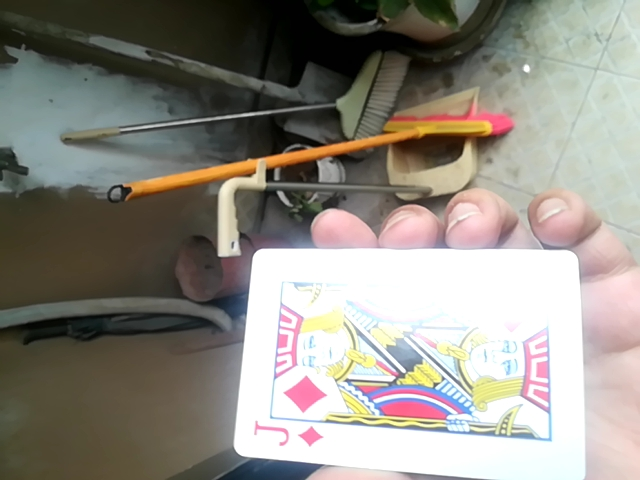fk j: (232, 251, 585, 480)
